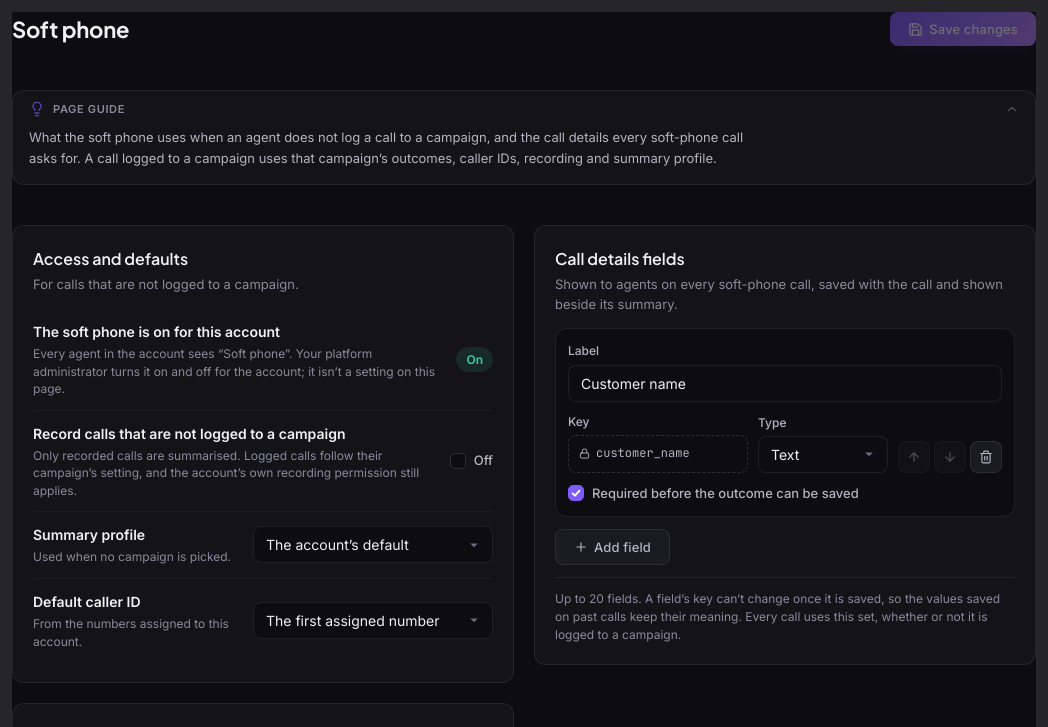
Test: Settings → Soft phone › fixes a saved field’s key and lets a new one follow its label
The width and height of the screenshot is (1048, 727).
Expected: the element with test id "field-key-locked-0" reads "customer_name", [596,445,690,461]
Click the button with test id "softphone-settings-add-field" at (612, 547), box [555,529,670,565]
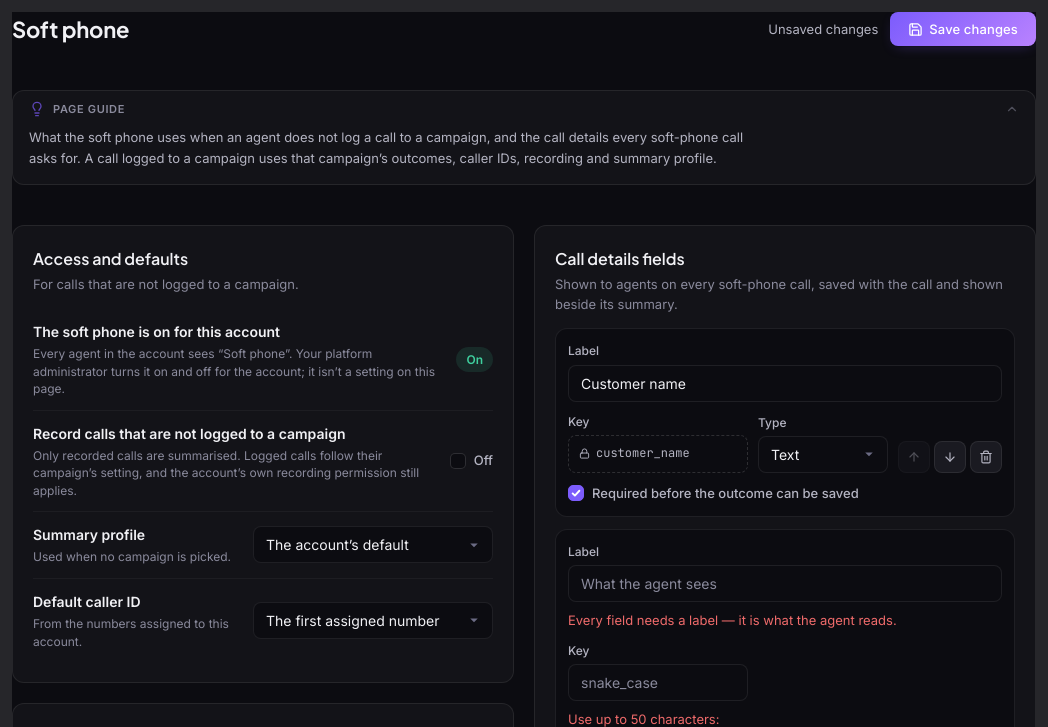
Type "Loan account no." into the 2nd field labelled "Label" at (785, 583), box [568,565,1002,602]
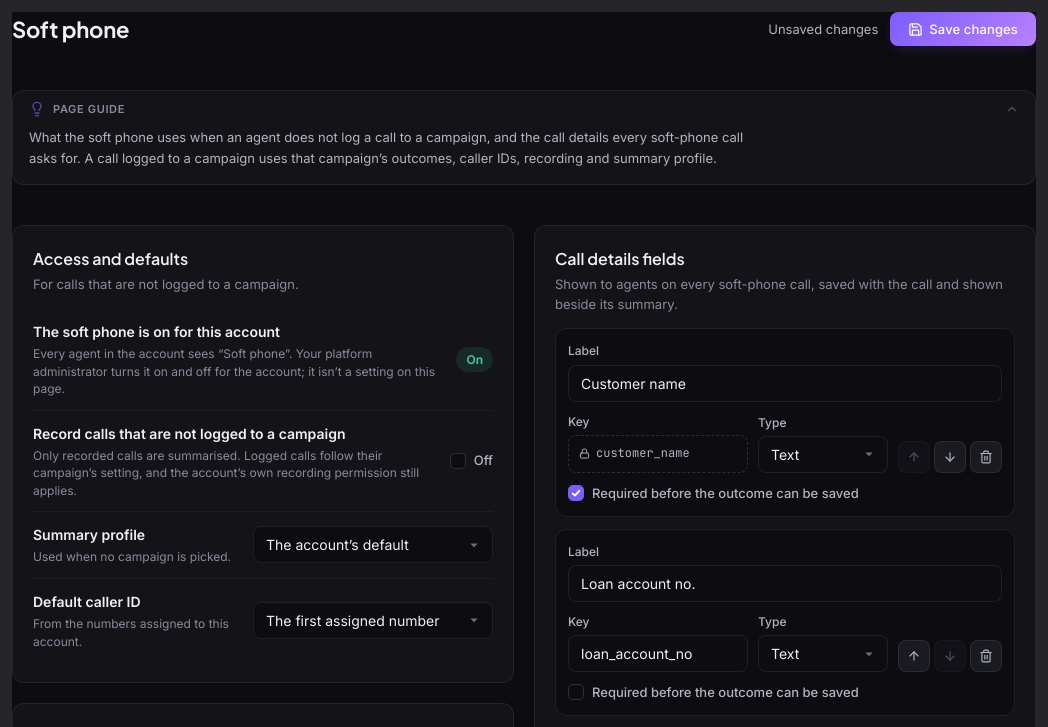
Expected: the field with test id "field-key-1" holds "loan_account_no", [568,635,748,672]
